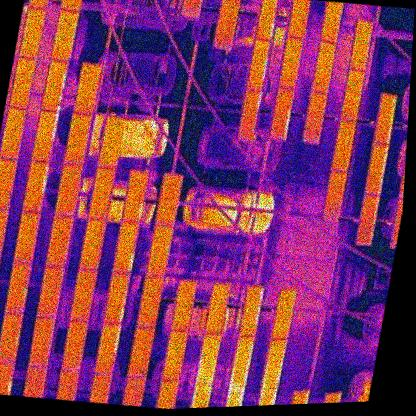Diode: (194, 330, 222, 388), (94, 320, 122, 376), (4, 260, 31, 316), (121, 169, 149, 223), (22, 159, 49, 215), (30, 109, 58, 163), (229, 332, 255, 390), (268, 86, 295, 141), (237, 88, 263, 142), (245, 36, 271, 90), (261, 338, 286, 391), (255, 0, 278, 40)
Hotspot: (111, 218, 139, 274), (39, 58, 68, 112), (103, 272, 131, 325), (238, 286, 264, 341)
Normal: (145, 222, 174, 280), (160, 326, 189, 384), (135, 273, 164, 329), (7, 56, 37, 110), (170, 276, 197, 335), (88, 165, 116, 221), (35, 264, 64, 318), (44, 215, 73, 269), (53, 163, 82, 217), (63, 111, 92, 165), (73, 62, 102, 116), (17, 6, 46, 60), (49, 8, 78, 62), (27, 315, 56, 369), (204, 280, 231, 337), (70, 267, 97, 323), (79, 217, 107, 271), (127, 325, 154, 380), (97, 115, 125, 168), (0, 106, 26, 163), (277, 37, 304, 91), (61, 318, 88, 372), (13, 211, 40, 264), (155, 171, 181, 226), (339, 67, 365, 122), (301, 91, 327, 145), (347, 19, 373, 73), (272, 286, 297, 342), (310, 39, 335, 95), (213, 0, 240, 51), (364, 142, 389, 196), (372, 92, 397, 146), (355, 193, 380, 246), (322, 170, 347, 222), (331, 119, 355, 172), (0, 311, 23, 363), (0, 157, 18, 211), (0, 207, 9, 263)
